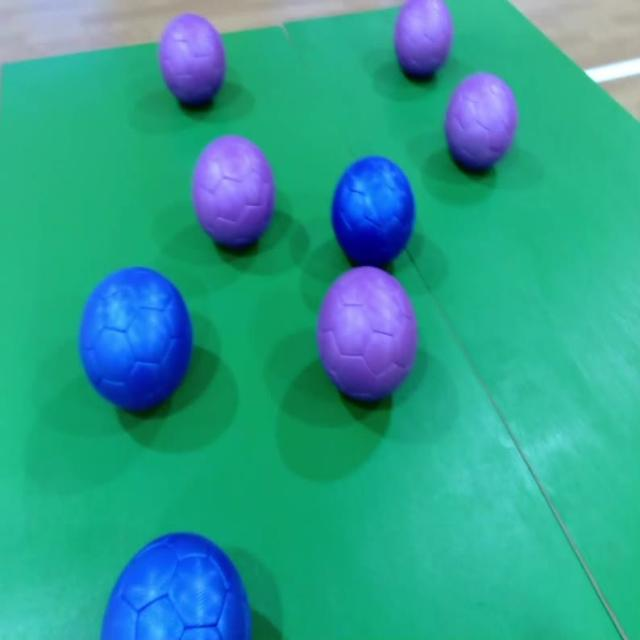blue_ball: (77, 265, 193, 417), (98, 528, 253, 640), (330, 156, 416, 273)
purple_ball: (315, 272, 419, 401), (190, 132, 278, 248), (444, 70, 519, 174), (158, 12, 228, 110), (393, 0, 454, 81)
